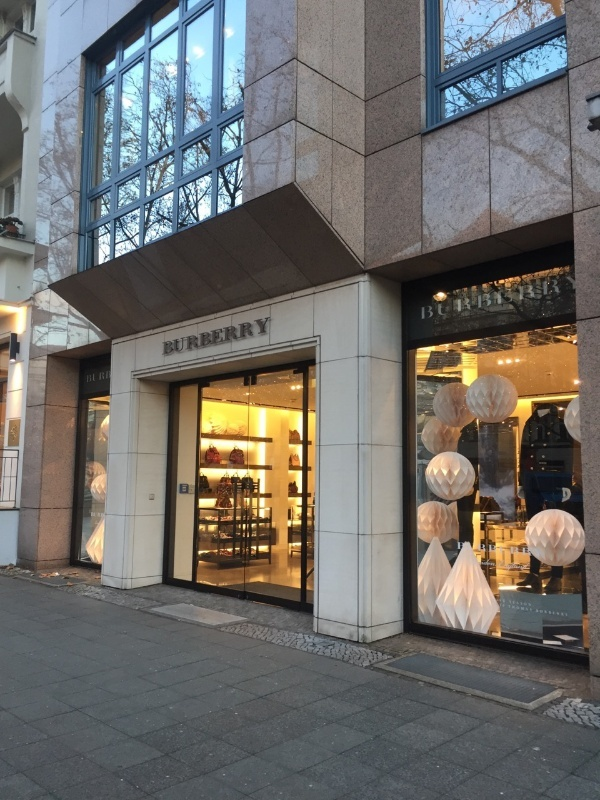text: (561, 272, 577, 322), (433, 272, 448, 322), (449, 272, 464, 322), (465, 272, 480, 322), (481, 272, 496, 322), (497, 272, 512, 322), (513, 272, 528, 322), (529, 272, 544, 322), (545, 272, 560, 322), (177, 317, 192, 357), (193, 317, 208, 357), (209, 317, 224, 357), (225, 317, 240, 357), (241, 317, 256, 357), (162, 317, 176, 357), (257, 317, 271, 357), (421, 272, 432, 322), (87, 374, 96, 383)
